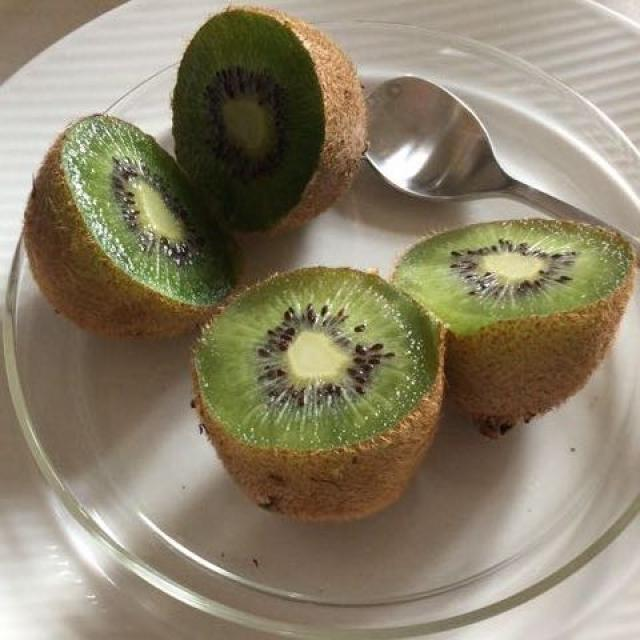kiwi: (191, 266, 445, 525), (390, 217, 633, 440), (23, 115, 242, 341), (164, 13, 362, 234)
